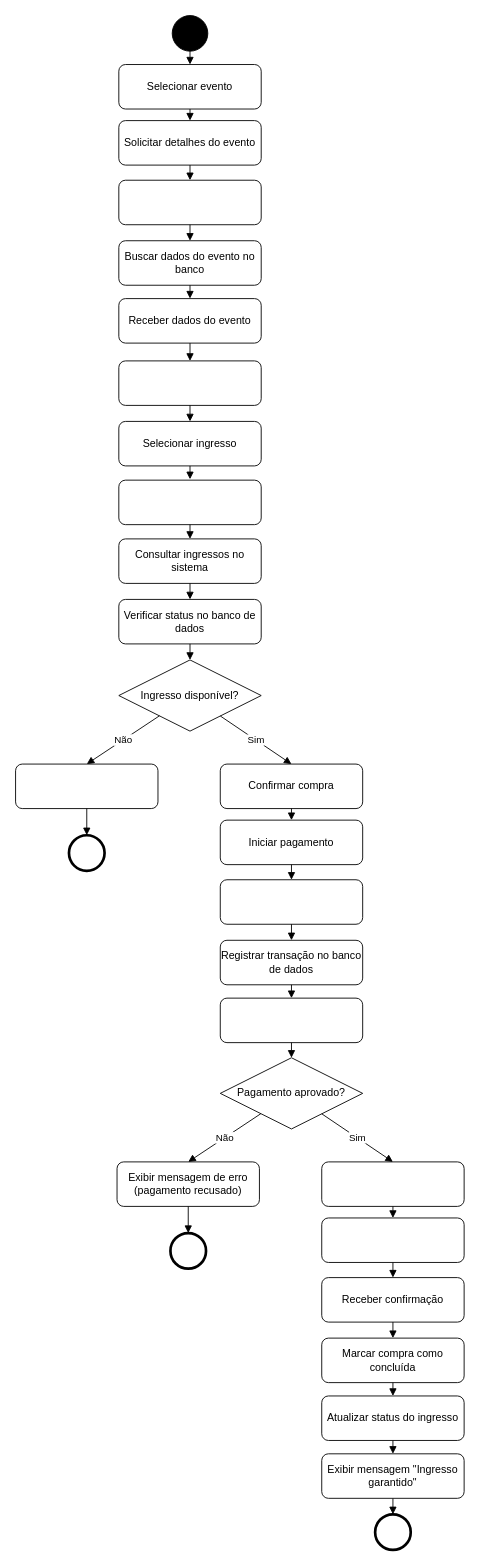
Image size: 480x1566. Some labels were removed from this diagram. Here are the shapes that lost their labels. From the top down, the centre of each, then its label:
point 189,202: Buscar evento no sistema
point 189,382: Exibir evento
point 189,502: Verificar disponibilidade de ingressos
point 86,786: Exibir mensagem "Ingresso esgotado"
point 291,901: Criar pagamento no sistema
point 291,1020: Receber status do pagamento
point 392,1183: Confirmar ingresso
point 392,1239: Salvar ingresso do usuário no banco
